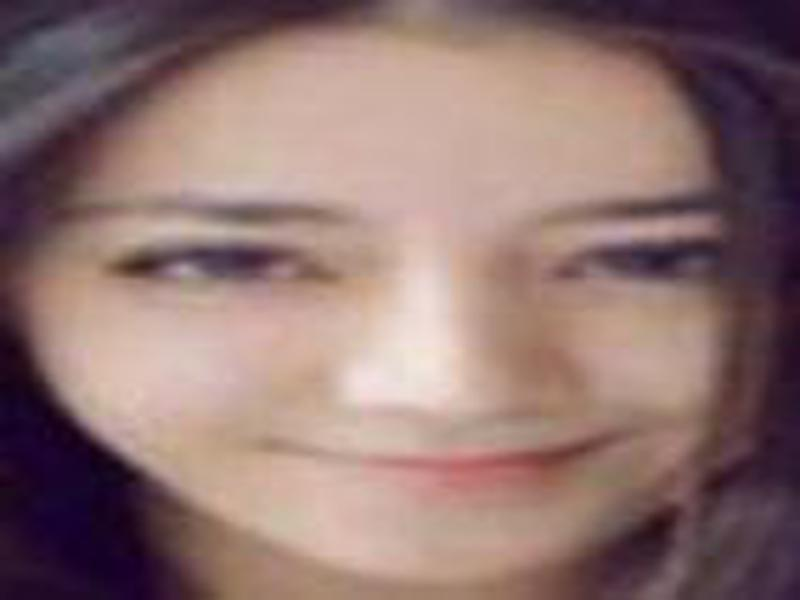without_mask: (23, 36, 782, 587)
